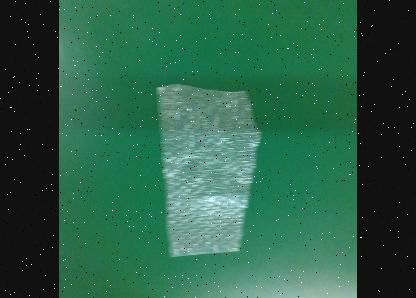Others: (156, 84, 264, 258)
